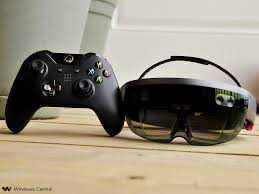hololens: (117, 73, 259, 147)
